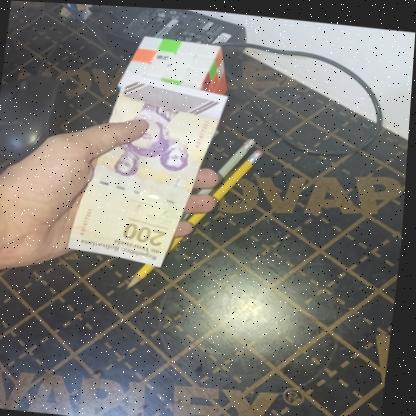two_hundred-front-vef: (68, 68, 232, 271)
